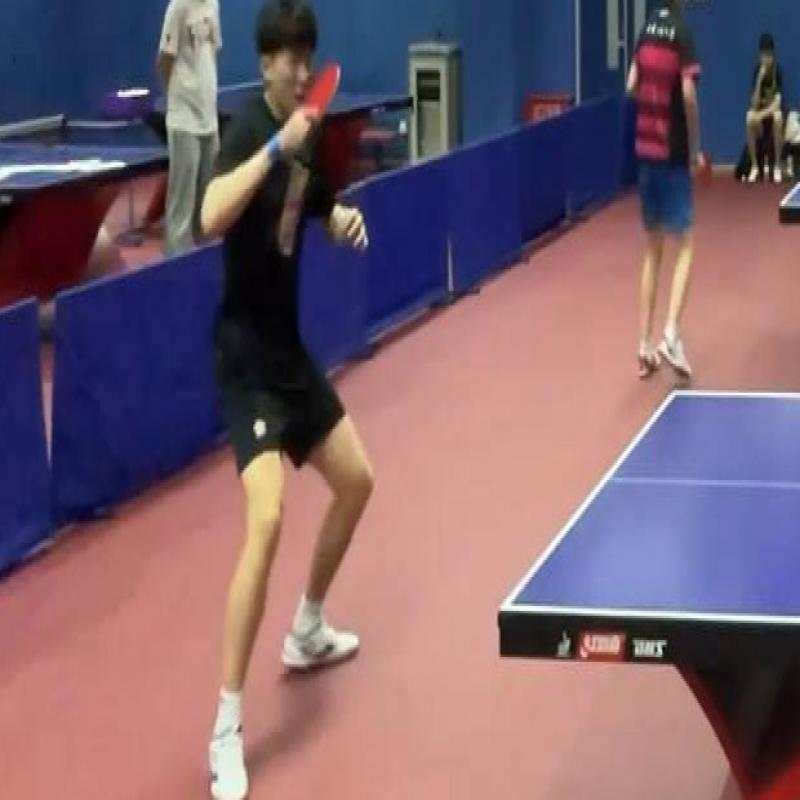bats: (286, 58, 350, 146)
